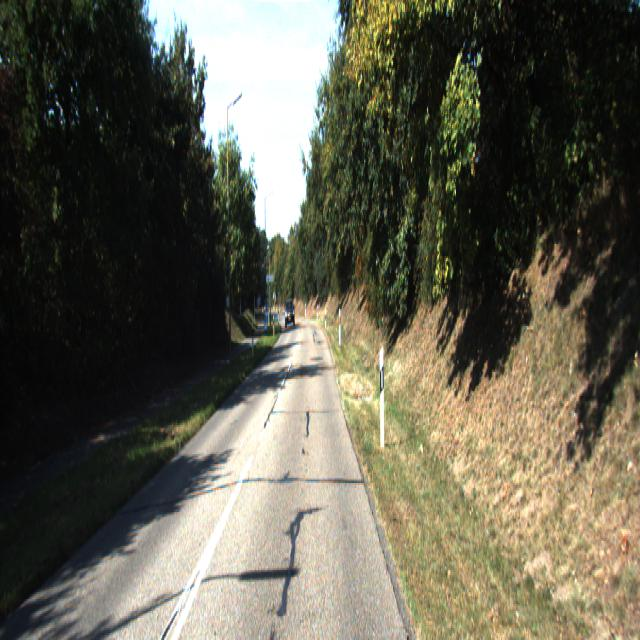Car: (283, 296, 296, 334)
